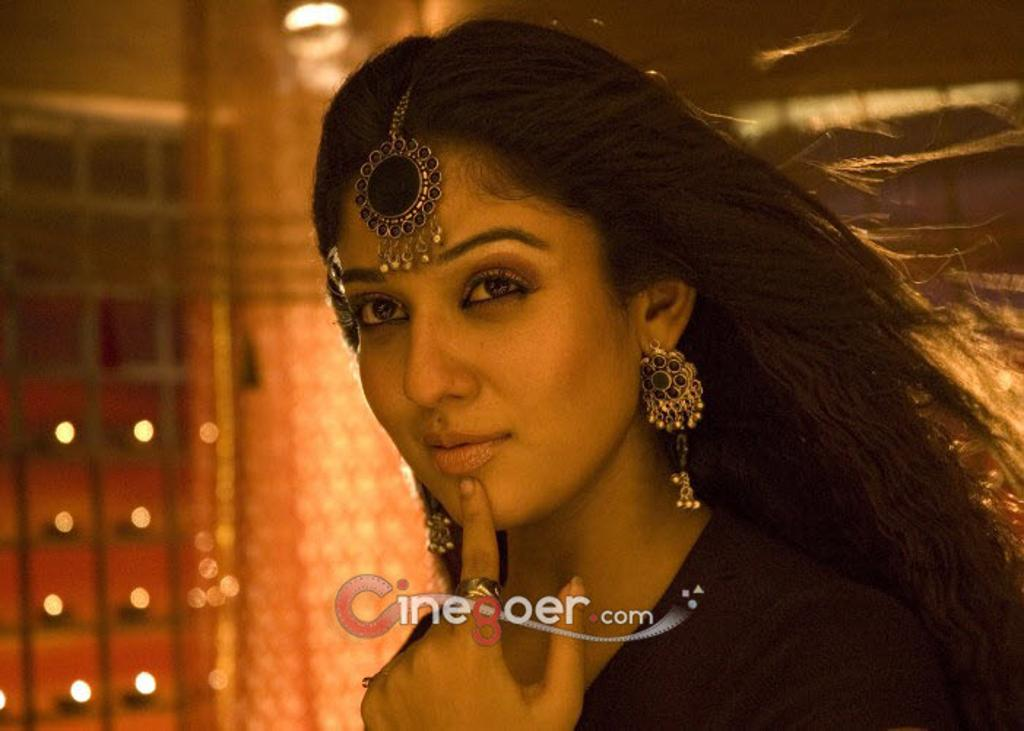face: (338, 144, 632, 520)
